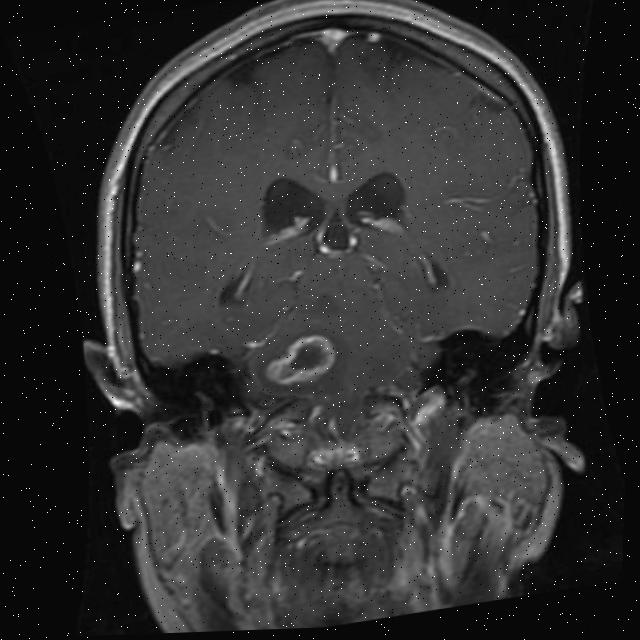Glioma: (260, 329, 340, 389)
Pituitary: (303, 439, 368, 472)
